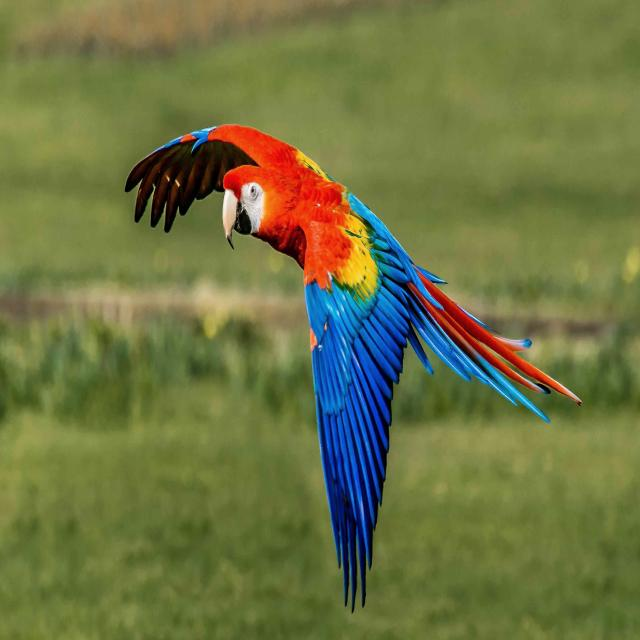parrot: (126, 125, 581, 609)
